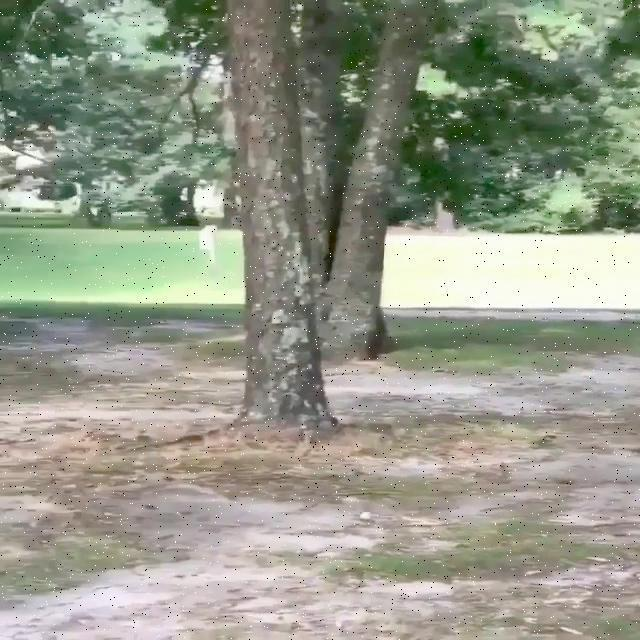GolfBall: (360, 512, 372, 520)
